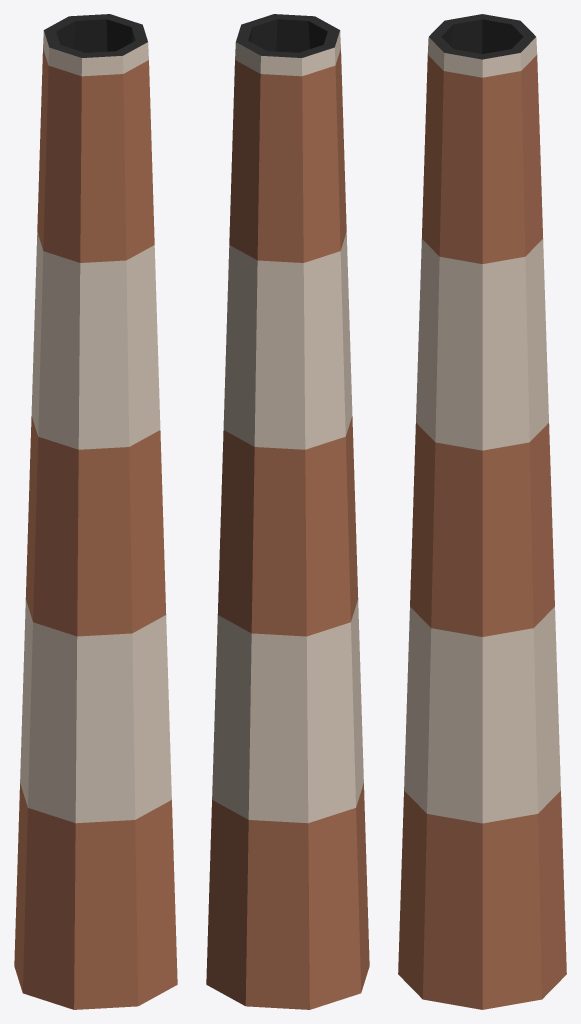
Rendered from buildings_chimney-big.fbx.
3 renders of one model, left to right at view 1: azimuth 30°, elevation 25°; view 2: azimuth 150°, elevation 25°; view 3: azimuth 270°, elevation 25°, orthographic.
Parts seen in each view (by area): view 1: buildings_chimney_big; view 2: buildings_chimney_big; view 3: buildings_chimney_big.
Part boxes in pixels (x1,y1,x2,y2): buildings_chimney_big: [14, 14, 177, 1009]; buildings_chimney_big: [206, 14, 369, 1009]; buildings_chimney_big: [398, 14, 566, 1009].
Size of the model in its own units: 32.63 by 200 by 32.63.
